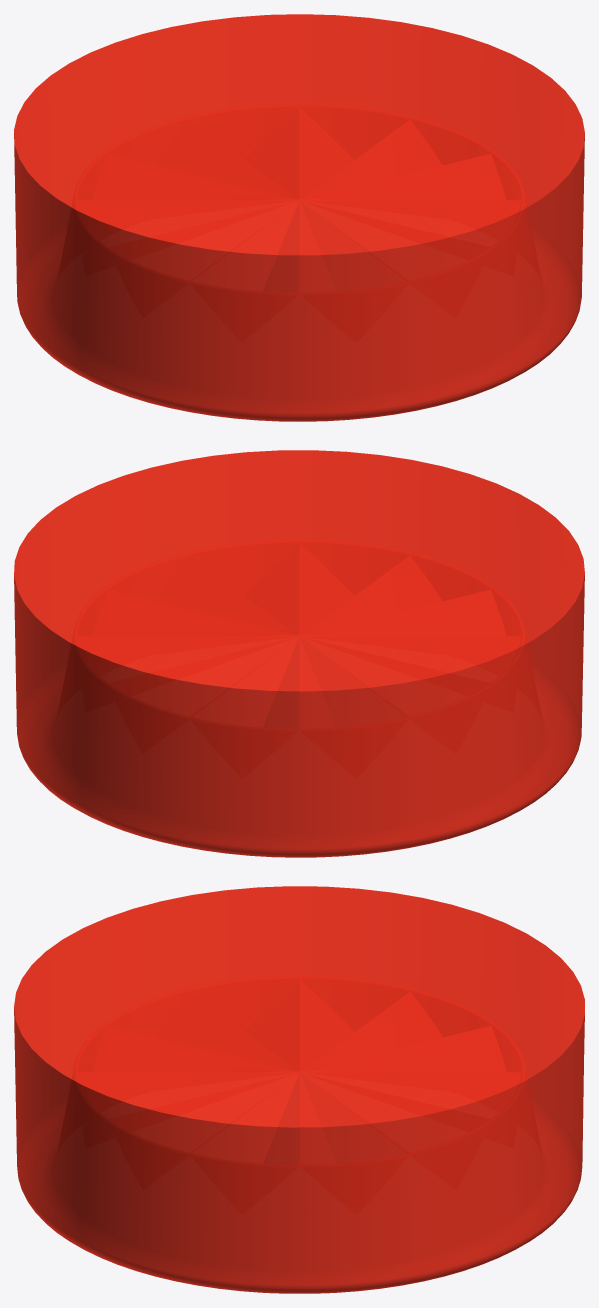
The model's file is Insert 0.75' Round, Starbust (PL-34RAS).fbx.
3 views of the same model, one above another, from view 1: azimuth 30°, elevation 25°; view 2: azimuth 150°, elevation 25°; view 3: azimuth 270°, elevation 25° (orthographic).
Visible parts, largest first — view 1: Insert 0.75' Round, Starbust (PL-34RAS); view 2: Insert 0.75' Round, Starbust (PL-34RAS); view 3: Insert 0.75' Round, Starbust (PL-34RAS).
Boxes of the visible parts, left/top/right/bottom form: Insert 0.75' Round, Starbust (PL-34RAS): left=14, top=14, right=584, bottom=421; Insert 0.75' Round, Starbust (PL-34RAS): left=14, top=450, right=584, bottom=857; Insert 0.75' Round, Starbust (PL-34RAS): left=14, top=886, right=584, bottom=1293.
Bounding box in the file's own units: 1.9 × 0.635 × 1.9.
